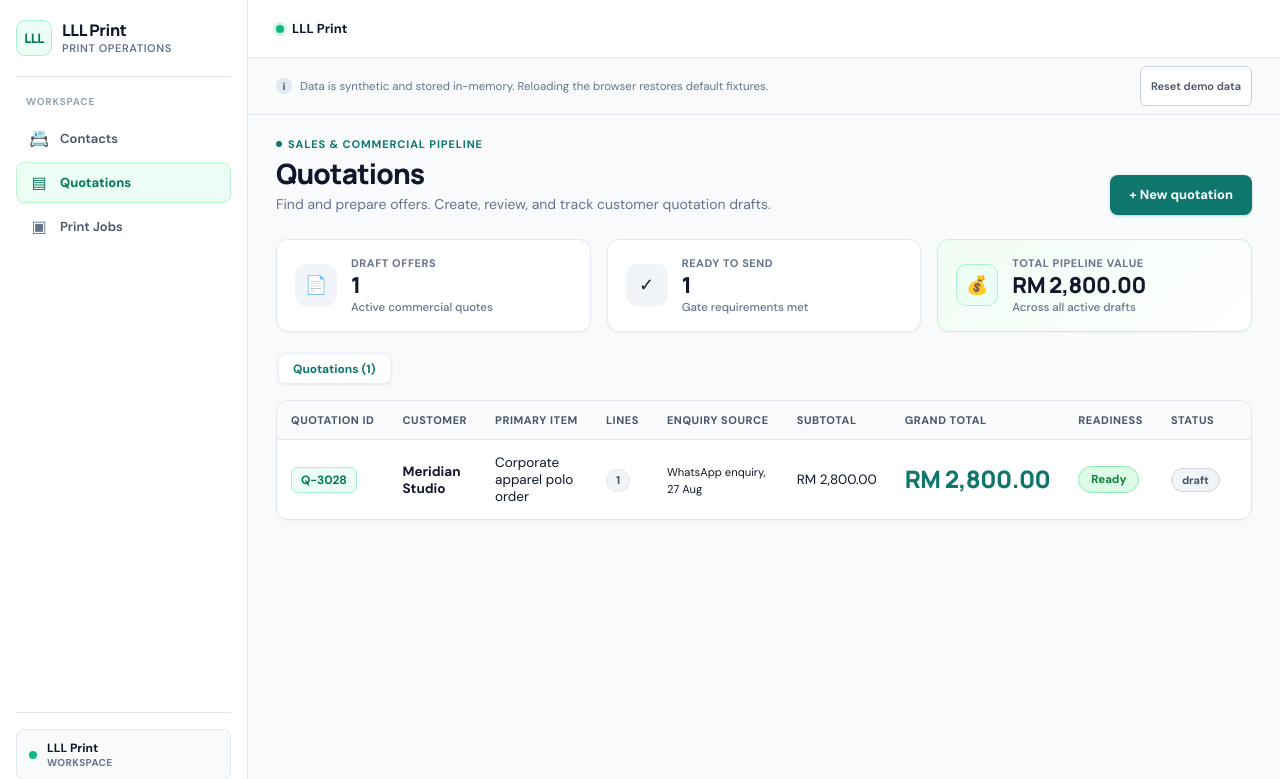
Test case: Unsaved quotation changes protection (SDD "Unsaved navigation", AT-06) › discarding a dirty new-quotation form performs the close and loses the entered values
Click the button "+ New quotation". click: (1181, 195)
box: [1110,175,1252,215]
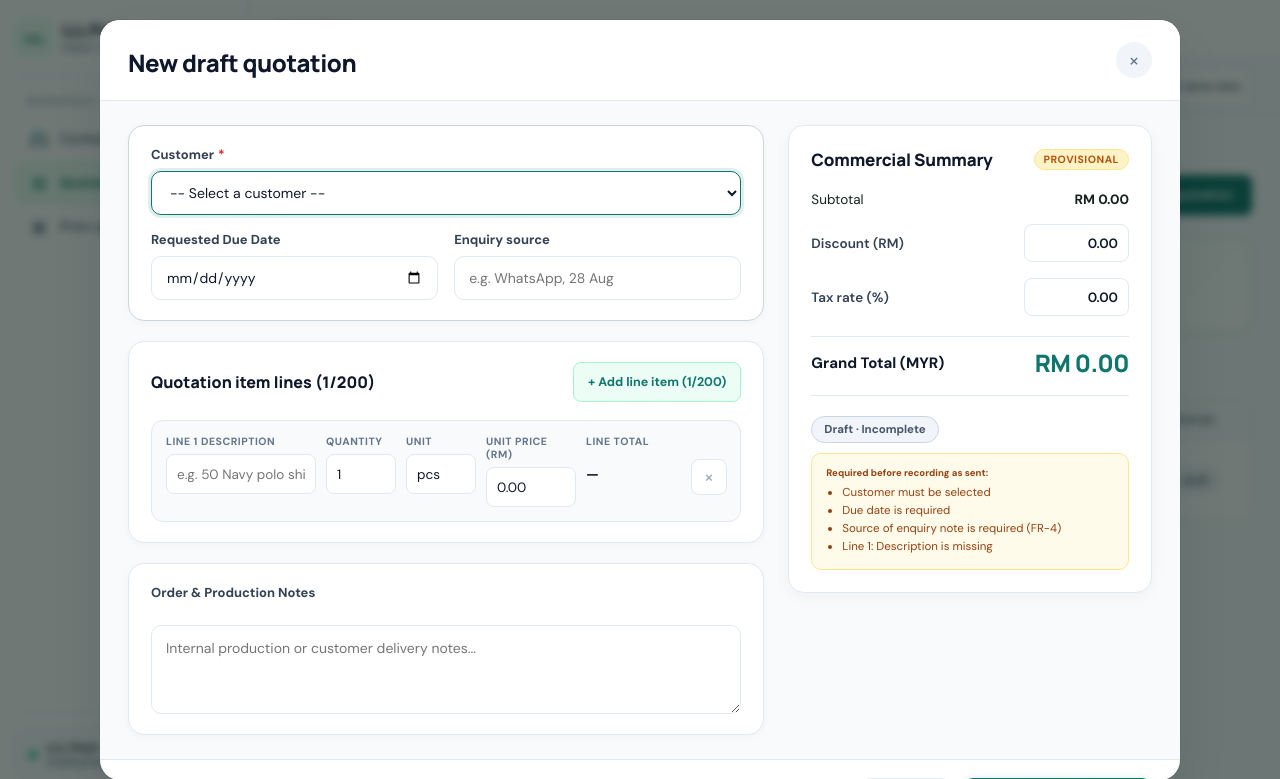
Type "Custom banner order" into the field labelled "Line 1 Description". click: (241, 474)
box: [166,454,316,494]
(page scrolled)
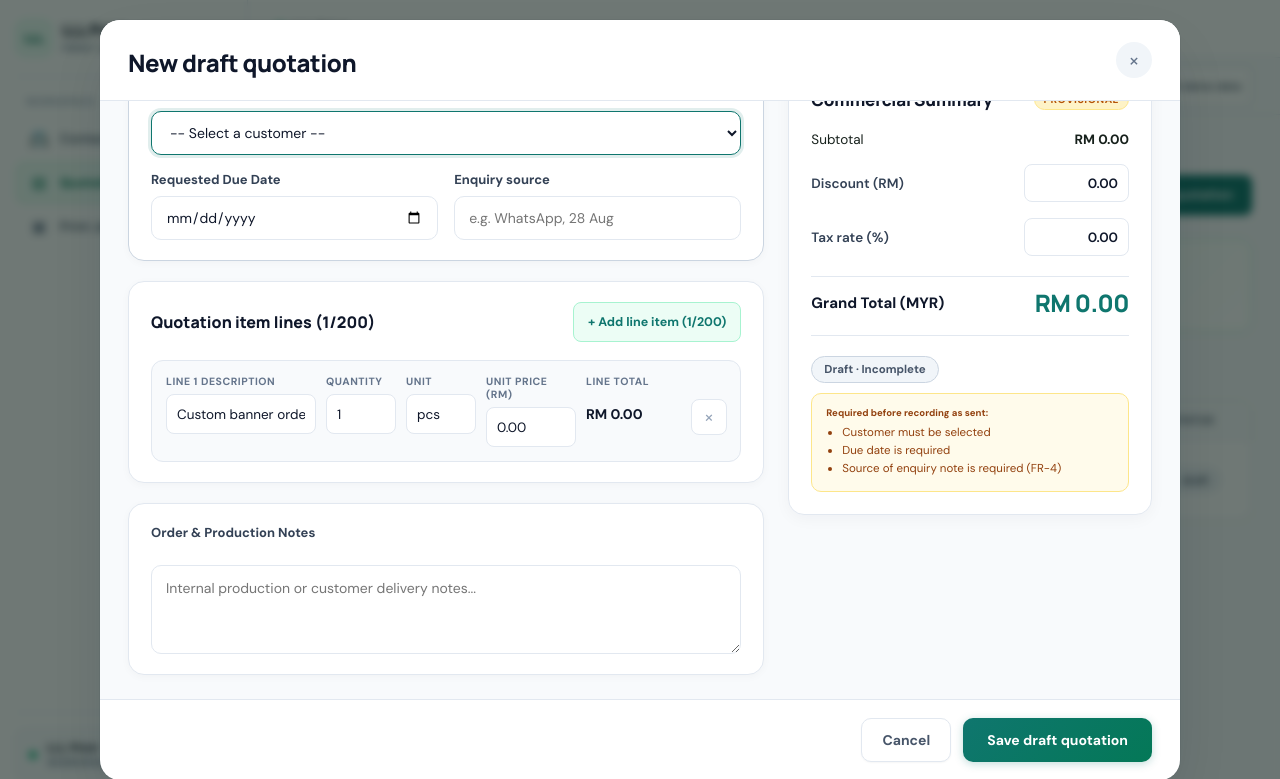
Click the button "Cancel". click: (906, 740)
box: [861,718,951,762]
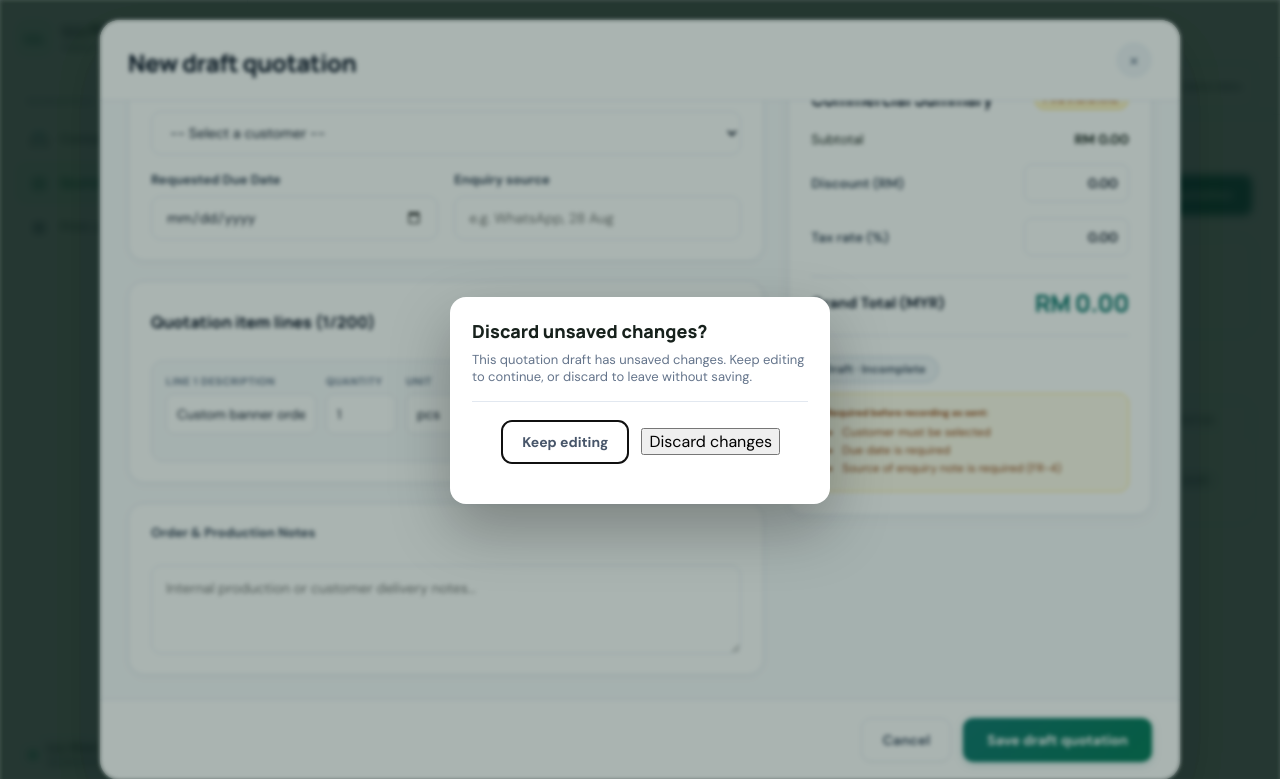
Click the button with test id "discard-changes-btn". click: (711, 442)
box: [641,428,780,455]
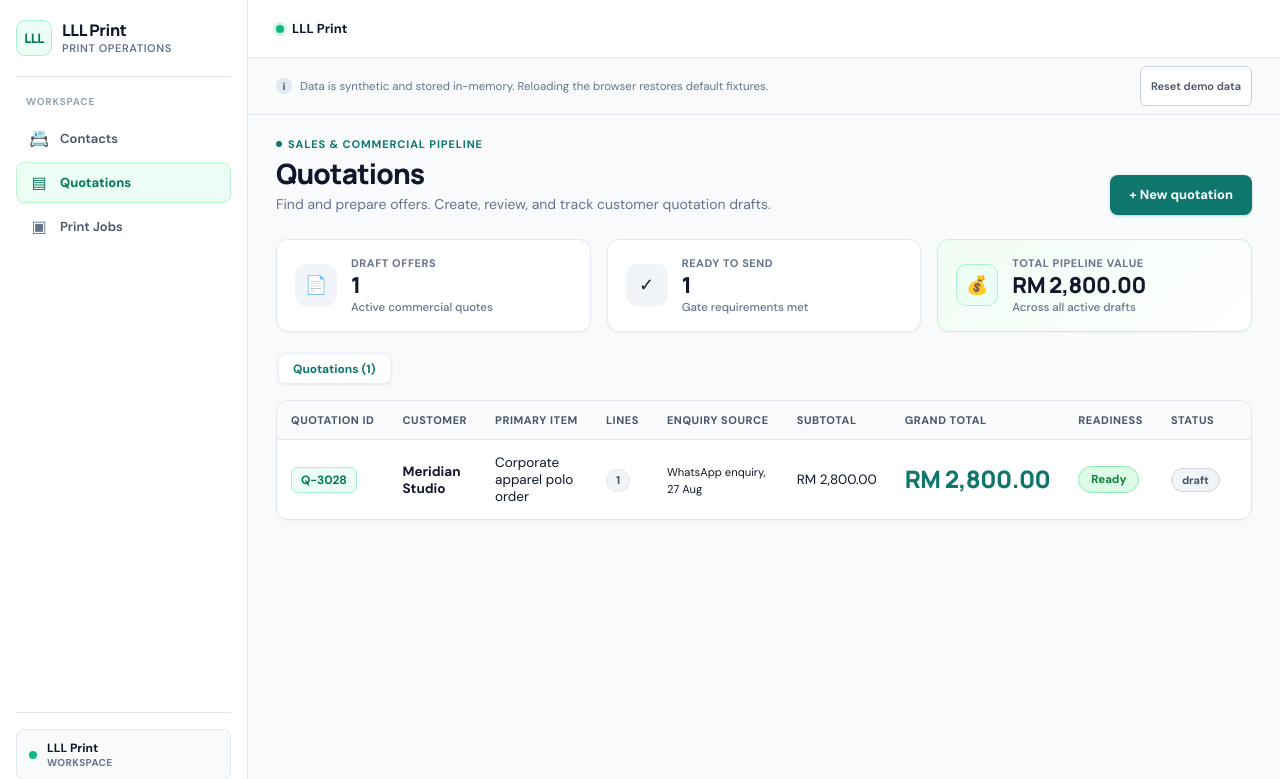
Now the dialog is gone
